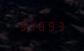eight: (36, 20, 44, 31)
nine: (45, 20, 53, 31)
seven: (27, 20, 35, 31)
three: (18, 20, 26, 31), (54, 20, 62, 31)
